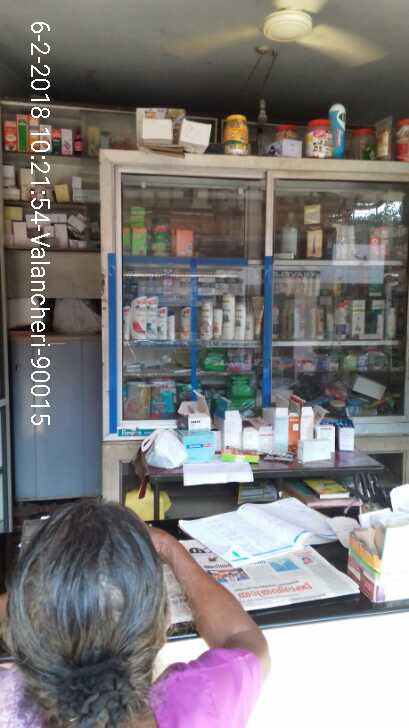vicks: (333, 103, 348, 159)
